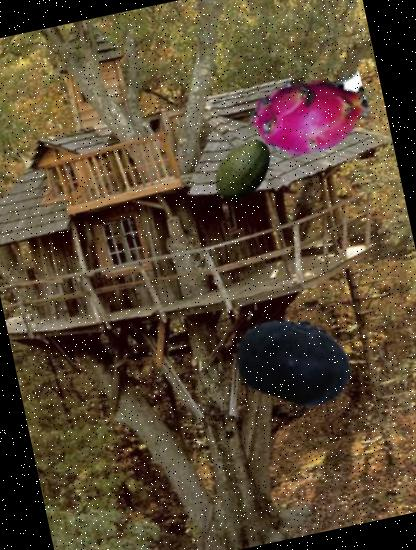Avocado: (202, 128, 286, 212)
Blueberry: (224, 290, 364, 430)
Pitahaya: (236, 42, 380, 186)
